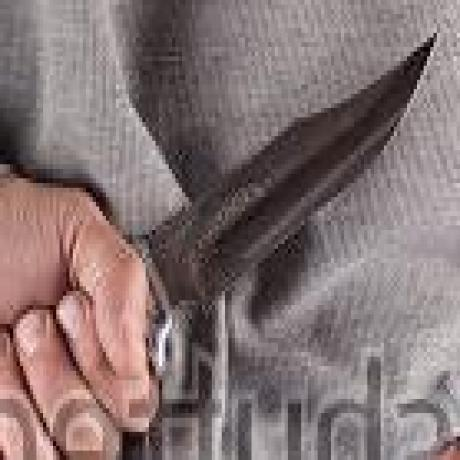weapon: (146, 31, 446, 311)
